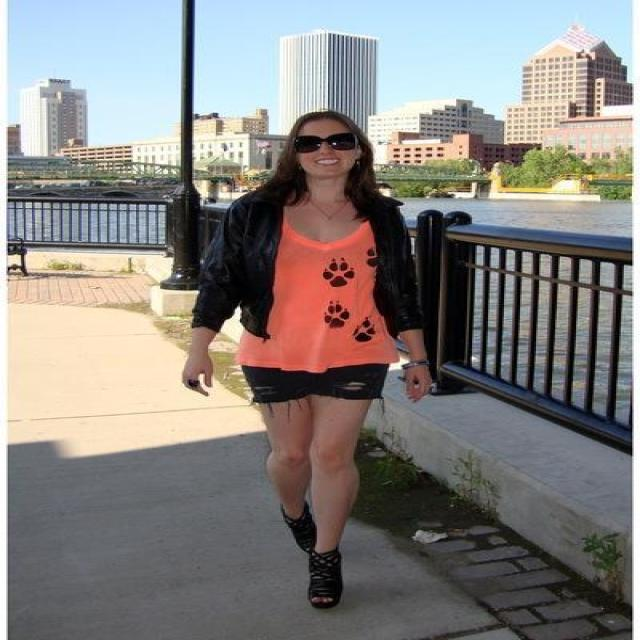jacket: (192, 192, 437, 341)
shirt: (253, 221, 402, 370)
shoe: (283, 504, 341, 609)
skirt: (242, 362, 387, 408)
sunglass: (294, 132, 354, 152)
